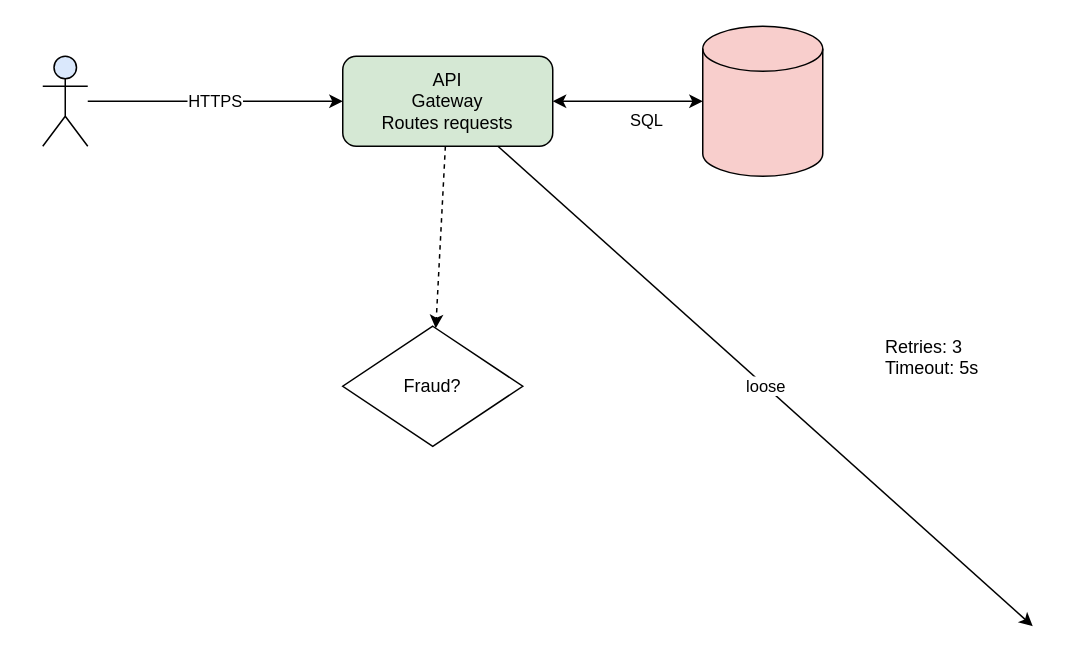
This 1089x665 diagram has some shape labels left out. Here are the shapes that lost their labels. From the top down, the centre of each, then its label:
point (64, 100): Customer
point (762, 100): Orders DB
